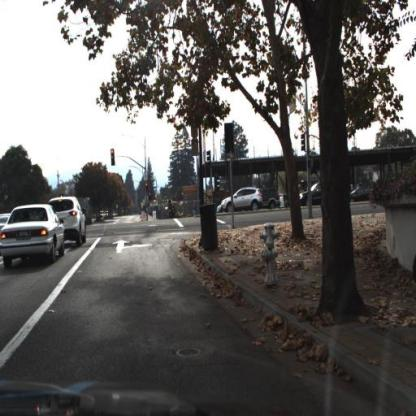car: (0, 203, 66, 270), (48, 192, 88, 247), (52, 195, 89, 245), (292, 176, 332, 209), (219, 186, 264, 212), (298, 182, 332, 209), (351, 185, 378, 208), (260, 187, 284, 207)
trafficLight-Red: (109, 149, 114, 165), (145, 180, 149, 192)
